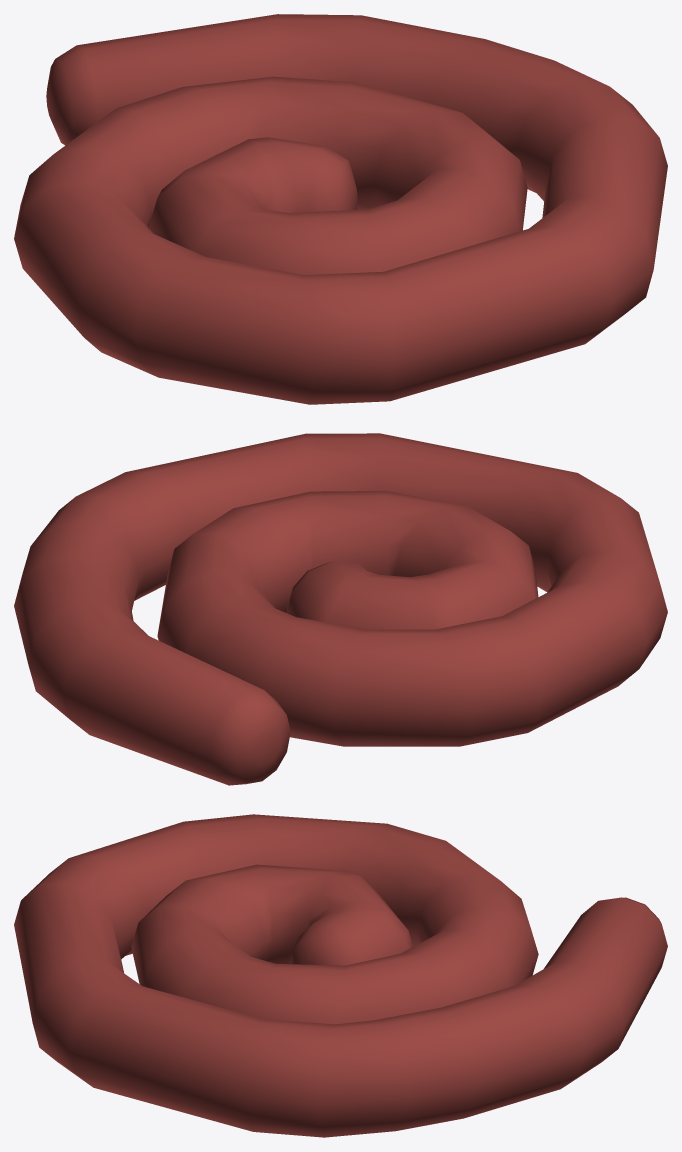
The model's file is Sausage_ring.004.fbx.
3 renders of one model, top to bottom at view 1: azimuth 30°, elevation 25°; view 2: azimuth 150°, elevation 25°; view 3: azimuth 270°, elevation 25°, orthographic. The views are drawn at different scales.
Visible parts, largest first — view 1: Sausage_ring.004; view 2: Sausage_ring.004; view 3: Sausage_ring.004.
Boxes of the visible parts, x1=… form: Sausage_ring.004: x1=14, y1=14, x2=667, y2=404; Sausage_ring.004: x1=14, y1=433, x2=667, y2=785; Sausage_ring.004: x1=14, y1=814, x2=667, y2=1137.
Size of the model in its own units: 123 by 132 by 22.87.
